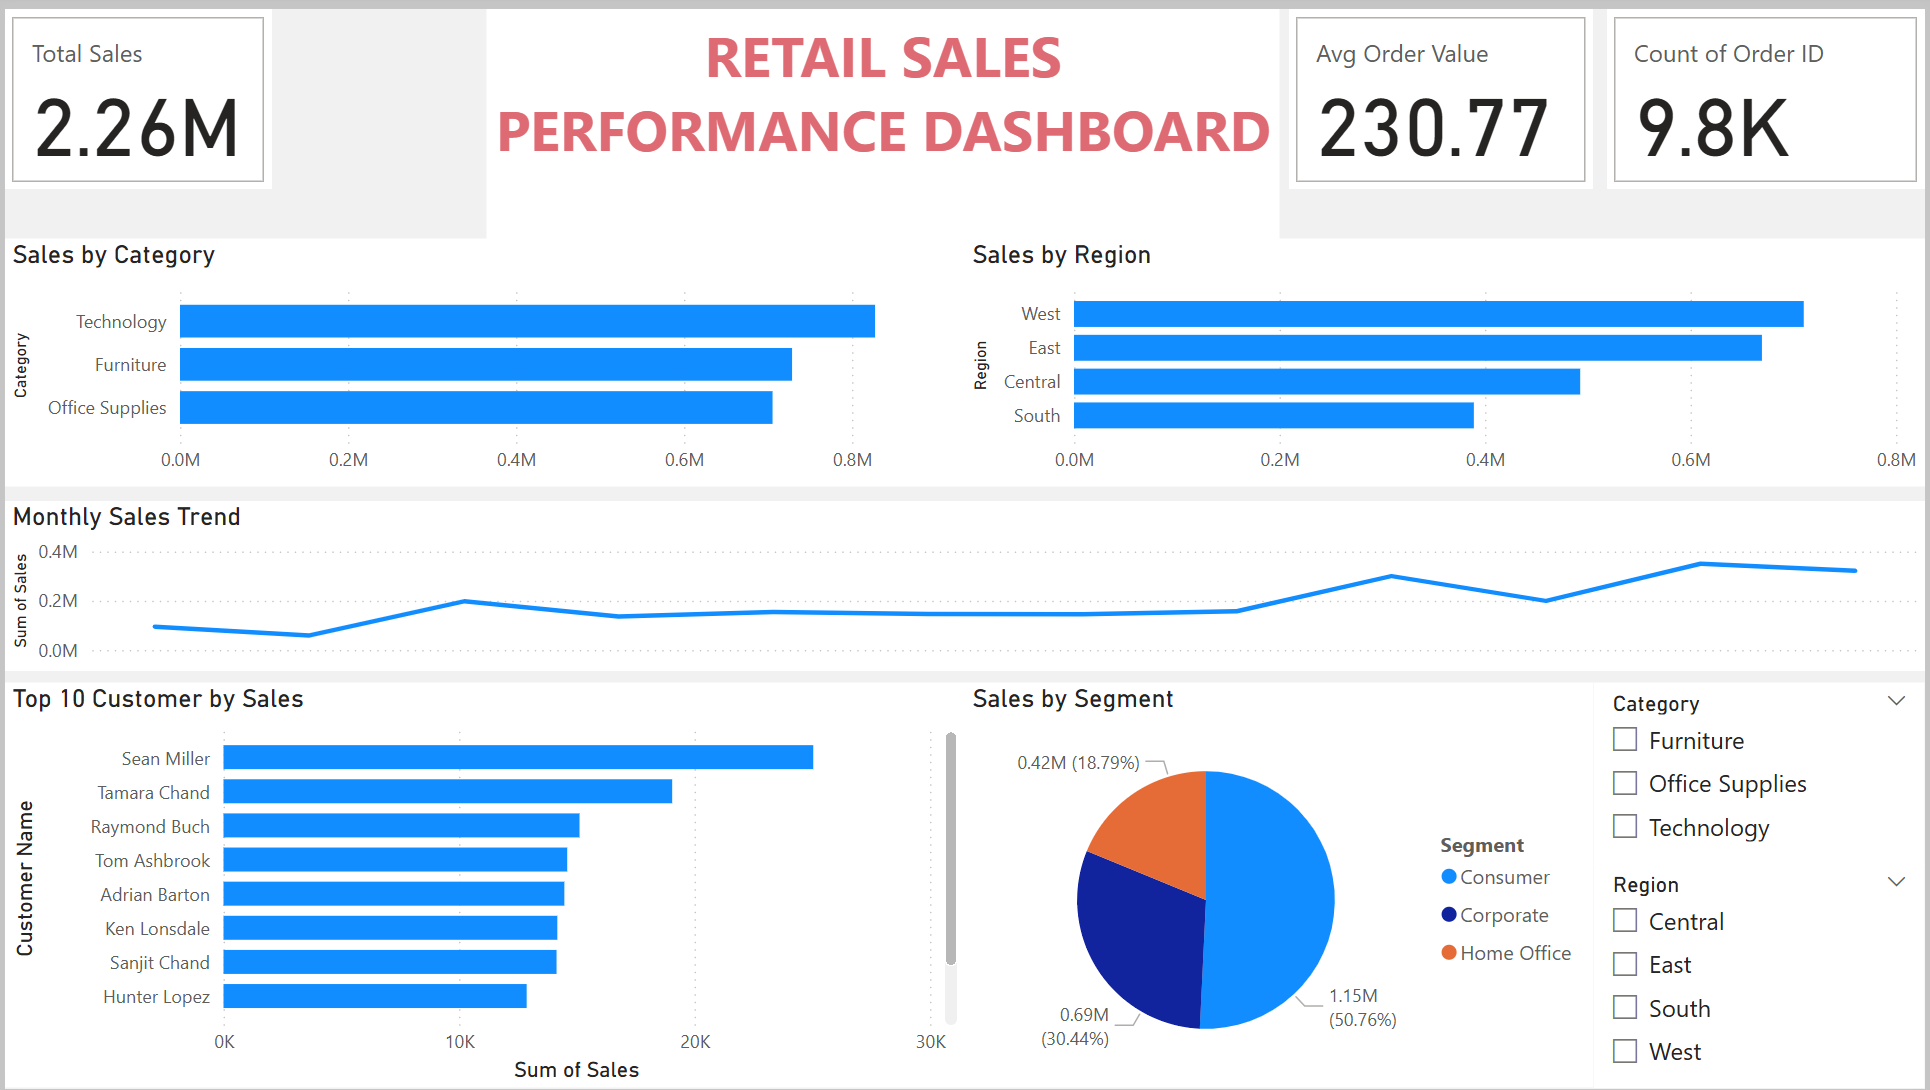

Layout of this report page (visuals, bound fields, positions):
{"tool":"powerbi","page":{"name":"Dashboard","canvas":[1280,720],"ordinal":0},"visuals":[{"type":"clusteredBarChart","title":"Sales by Category","fields":{"Category":["train.Category"],"Y":["Sum(train.Sales)"]},"box":[0,153.2,640.4,165.2],"z":0},{"type":"clusteredBarChart","title":"Sales by Region","fields":{"Category":["train.Region"],"Y":["Sum(train.Sales)"]},"box":[640.4,153.2,639.2,165.2],"z":1000},{"type":"lineChart","title":"Monthly Sales Trend","fields":{"Category":["train.Order Date.Variation.Date Hierarchy.Month"],"Y":["Sum(train.Sales)"]},"box":[0,328,1279.6,112.5],"z":2000},{"type":"clusteredBarChart","title":"Top 10 Customer by Sales","fields":{"Category":["train.Customer Name"],"Y":["Sum(train.Sales)"]},"box":[0,448.9,640.4,270.5],"z":3000},{"type":"pieChart","title":"Sales by Segment","fields":{"Category":["train.Segment"],"Y":["Sum(train.Sales)"]},"box":[640.4,448.9,419,270.5],"z":4000},{"type":"slicer","fields":{"Values":["train.Region"]},"box":[1059.4,569.8,220.3,149.6],"z":5000},{"type":"slicer","fields":{"Values":["train.Category"]},"box":[1059.4,448.9,220.3,120.9],"z":6000},{"type":"textbox","box":[320.8,0,529.1,153.2],"z":7000},{"type":"cardVisual","fields":{"Data":["Sum(train.Sales)"]},"box":[0,0,178.4,119.7],"z":8000},{"type":"cardVisual","fields":{"Data":["Avg(train.Sales)"]},"box":[855.9,0,203.5,119.7],"z":9000},{"type":"cardVisual","fields":{"Data":["CountNonNull(train.Order ID)"]},"box":[1067.7,0,211.9,119.7],"z":10000}]}

Visuals, with their boxes in screenshot pixels (x1, y1, x2, y2), scaled from the page's 1280x720 canvas onto the 1930x1090 screenshot:
"Sales by Category" clusteredBarChart: bbox=[0, 232, 966, 482]
"Sales by Region" clusteredBarChart: bbox=[966, 232, 1929, 482]
"Monthly Sales Trend" lineChart: bbox=[0, 497, 1929, 667]
"Top 10 Customer by Sales" clusteredBarChart: bbox=[0, 680, 966, 1089]
"Sales by Segment" pieChart: bbox=[966, 680, 1597, 1089]
slicer - train.Region: bbox=[1597, 863, 1929, 1089]
slicer - train.Category: bbox=[1597, 680, 1929, 863]
textbox: bbox=[484, 0, 1281, 232]
cardVisual - Sum(train.Sales): bbox=[0, 0, 269, 181]
cardVisual - Avg(train.Sales): bbox=[1291, 0, 1597, 181]
cardVisual - CountNonNull(train.Order ID): bbox=[1610, 0, 1929, 181]
